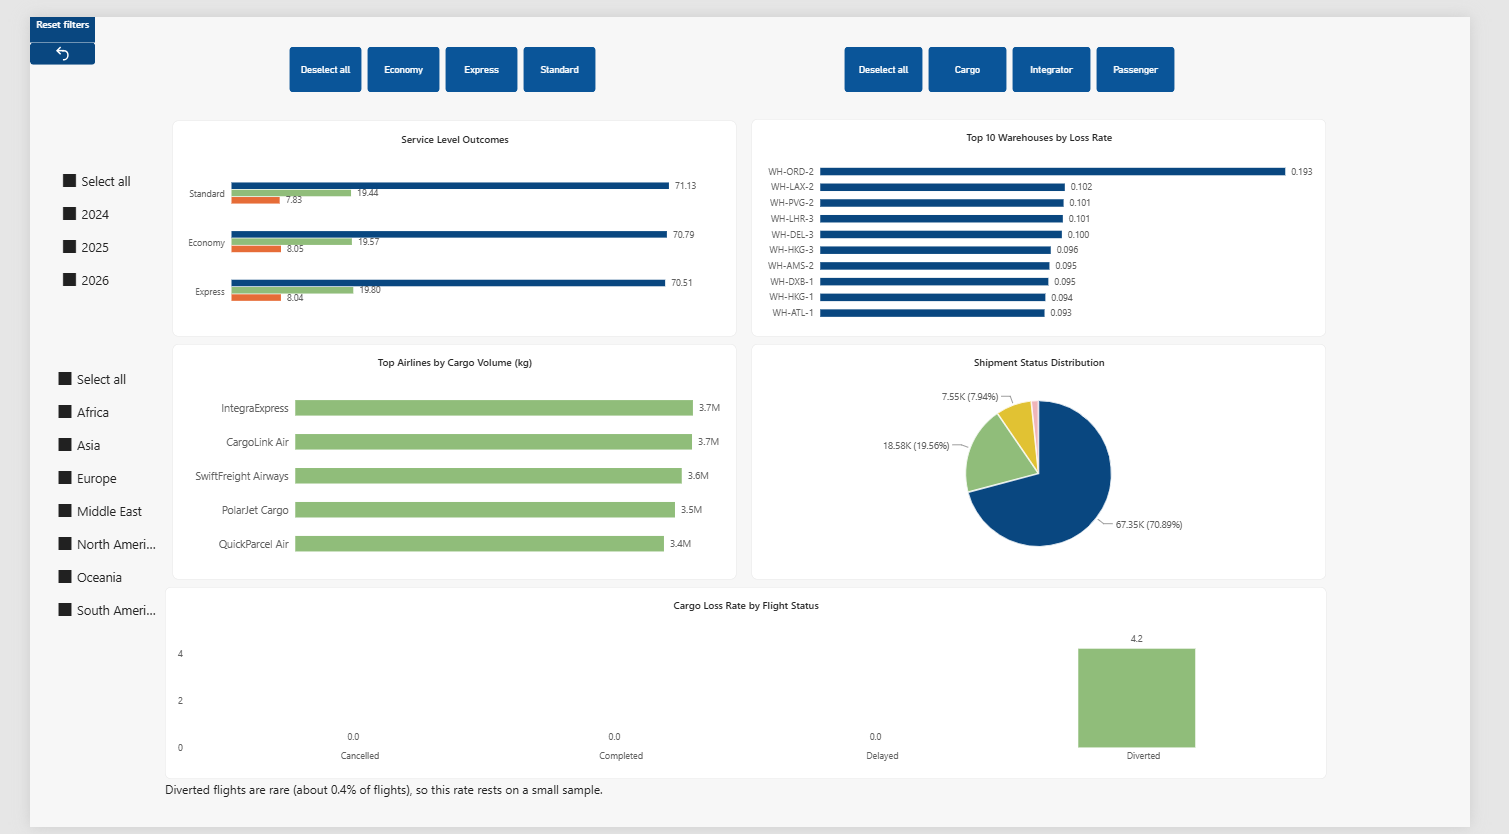

The page's visual inventory and layout, read from the dashboard file:
{"tool":"powerbi","page":{"name":"Cargo & Shipments","canvas":[1920,1080],"ordinal":3},"visuals":[{"type":"shape","box":[0,0,178.6,1080],"z":0},{"type":"clusteredBarChart","title":"Service Level Outcomes","fields":{"Category":["shipments.service_type"],"Y":["Measure Table.Delivery_Rate_Pct","Measure Table.Delayed_Rate_Pct","Measure Table.Lost_Rate_Pct"]},"box":[190,138,752,288],"z":1000},{"type":"barChart","title":"Top 10 Warehouses by Loss Rate","fields":{"Category":["warehouses.code"],"Y":["Measure Table.Warehouse_Loss_Rate"]},"box":[962,136,766,290],"z":2000},{"type":"barChart","title":"Top Airlines by Cargo Volume (kg)","fields":{"Category":["airlines.name"],"Y":["Sum(shipments.weight_kg)"]},"box":[190,436.9,752,314],"z":3000},{"type":"slicer","title":"Year","fields":{"Values":["flights.Year"]},"box":[22.9,165.7,134,230],"z":4000},{"type":"slicer","title":"Region","fields":{"Values":["airports.region"]},"box":[22.9,414.3,140,408],"z":5000},{"type":"pieChart","title":"Shipment Status Distribution","fields":{"Category":["shipments.status"],"Y":["CountNonNull(shipments.shipment_id)"]},"box":[962,436.9,766,314],"z":6000},{"type":"clusteredColumnChart","title":"Cargo Loss Rate by Flight Status","fields":{"Category":["flights.status"],"Y":["Measure Table.Cargo Loss Rate"]},"box":[179.7,759.4,1548.4,256.2],"z":7000},{"type":"actionButton","title":"Reset filters","box":[2,0,175,65],"z":8000},{"type":"textbox","box":[179.7,1018.8,739.1,47.3],"z":9000},{"type":"advancedSlicerVisual","fields":{"Values":["shipments.service_type"]},"box":[346,40,410,60],"z":10000},{"type":"advancedSlicerVisual","fields":{"Values":["airlines.carrier_type"]},"box":[1086,40,440,60],"z":11000},{"type":"pageNavigator","box":[10,860,158,200],"z":12000}]}

Visuals, with their boxes in screenshot pixels (x1, y1, x2, y2), scaled from the page's 1920x1080 canvas onto the 1509x834 screenshot:
shape: x1=0, y1=0, x2=140, y2=833
"Service Level Outcomes" clusteredBarChart: x1=149, y1=107, x2=740, y2=329
"Top 10 Warehouses by Loss Rate" barChart: x1=756, y1=105, x2=1358, y2=329
"Top Airlines by Cargo Volume (kg)" barChart: x1=149, y1=337, x2=740, y2=580
"Year" slicer: x1=18, y1=128, x2=123, y2=306
"Region" slicer: x1=18, y1=320, x2=128, y2=635
"Shipment Status Distribution" pieChart: x1=756, y1=337, x2=1358, y2=580
"Cargo Loss Rate by Flight Status" clusteredColumnChart: x1=141, y1=586, x2=1358, y2=784
"Reset filters" actionButton: x1=2, y1=0, x2=139, y2=50
textbox: x1=141, y1=787, x2=722, y2=823
advancedSlicerVisual - shipments.service_type: x1=272, y1=31, x2=594, y2=77
advancedSlicerVisual - airlines.carrier_type: x1=854, y1=31, x2=1199, y2=77
pageNavigator: x1=8, y1=664, x2=132, y2=819
